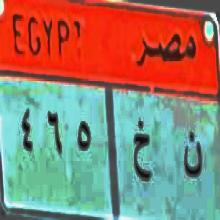4: (17, 105, 37, 162)
5: (74, 115, 96, 157)
6: (41, 105, 66, 162)
khaa: (127, 110, 154, 190)
noon: (181, 112, 204, 194)
